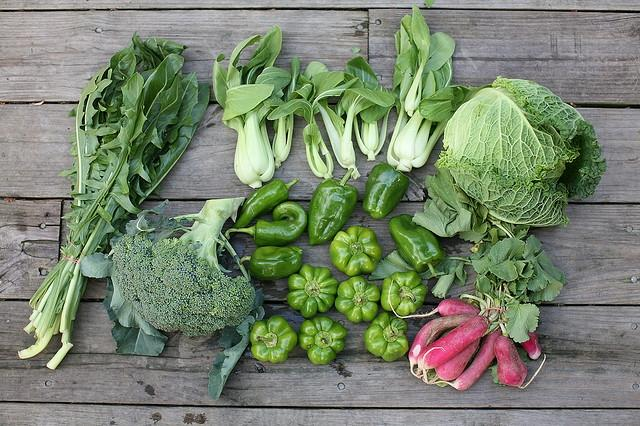broccoli: (112, 197, 255, 337)
radish: (416, 315, 489, 379), (408, 314, 476, 377), (388, 278, 481, 318), (452, 328, 502, 390), (494, 336, 546, 390), (422, 338, 480, 384), (520, 330, 541, 360)
